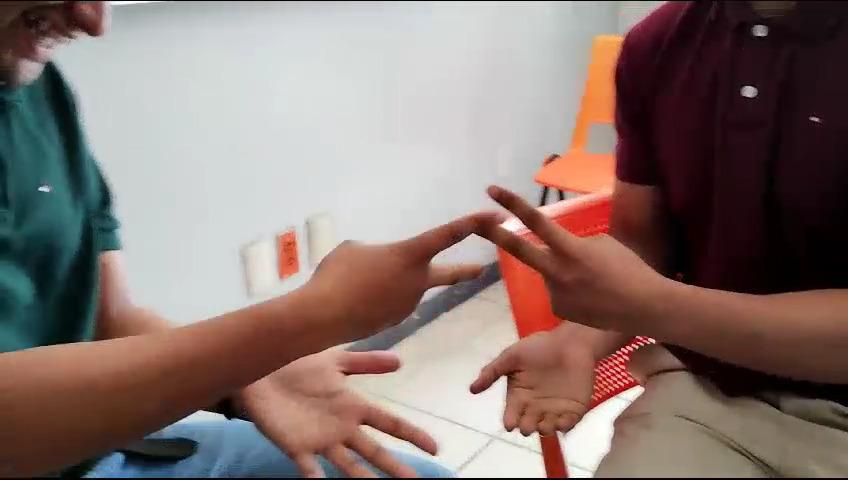Scissor: (459, 172, 650, 342), (297, 190, 512, 329)
